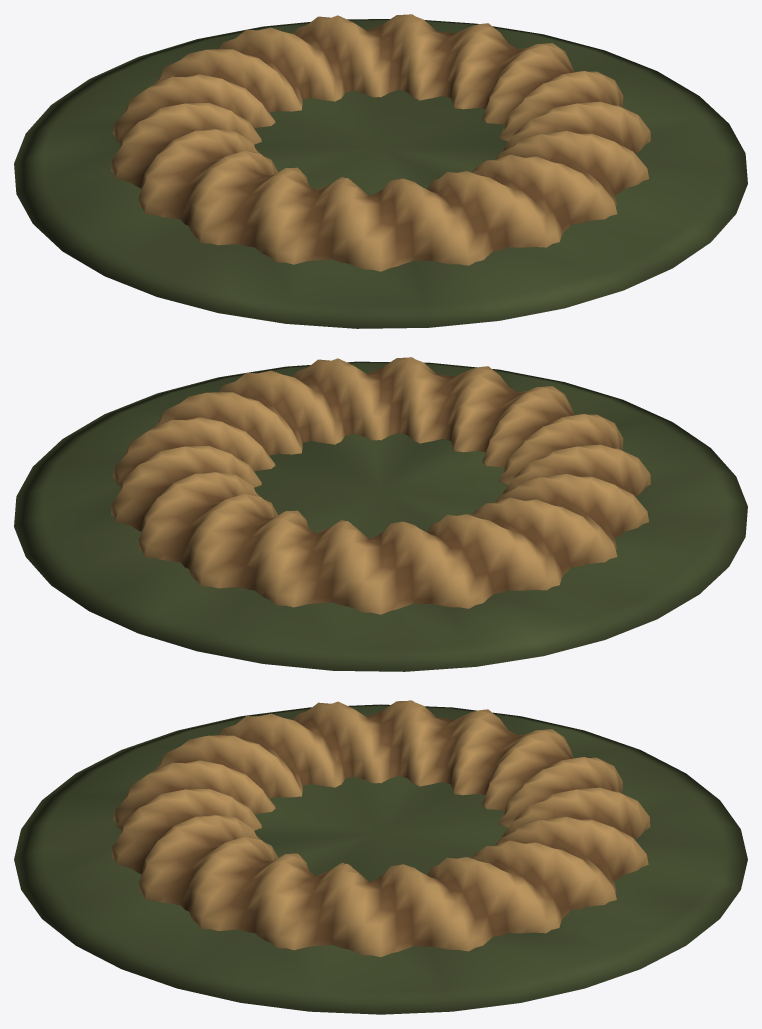
The model's file is Obamus.fbx.
3 renders of one model, top to bottom at view 1: azimuth 30°, elevation 25°; view 2: azimuth 150°, elevation 25°; view 3: azimuth 270°, elevation 25°, orthographic.
Visible parts, largest first — view 1: Obamus; view 2: Obamus; view 3: Obamus.
Part boxes in pixels (bbox=[...]): Obamus: bbox=[14, 14, 747, 328]; Obamus: bbox=[14, 357, 747, 671]; Obamus: bbox=[14, 700, 747, 1014].
Size of the model in its own units: 1.5 by 0.2761 by 1.5.
